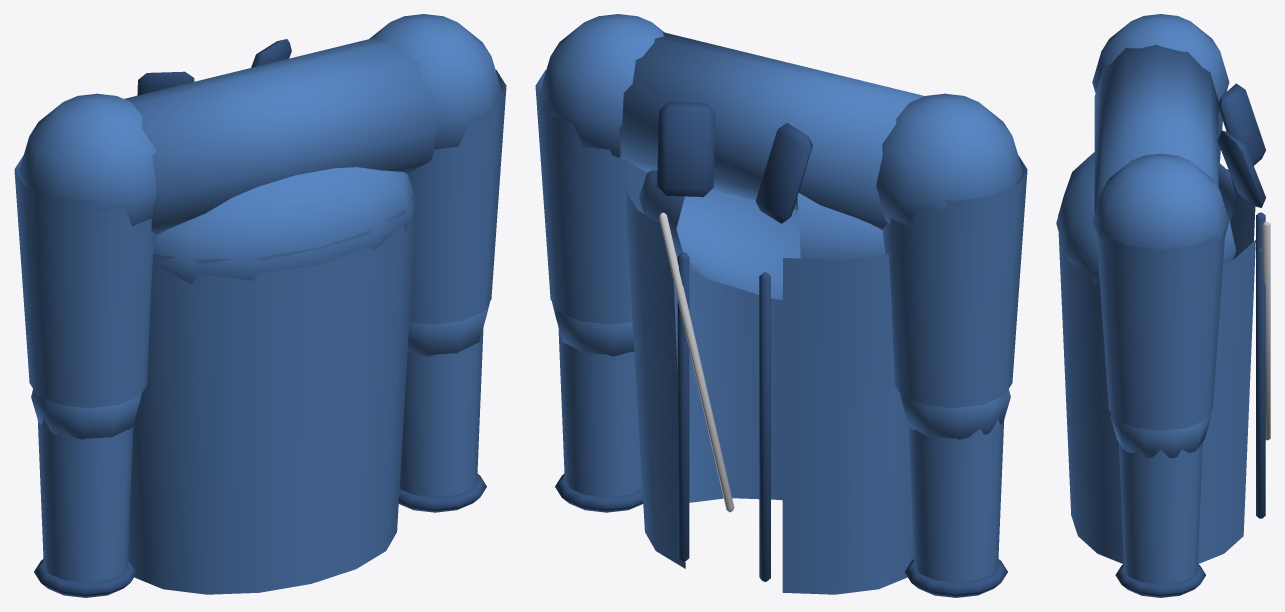
Rendered from top_leather.glb.
The picture shows the model from 3 angles, left to right: view 1: azimuth 30°, elevation 25°; view 2: azimuth 150°, elevation 25°; view 3: azimuth 270°, elevation 25°; orthographic projection. The views are drawn at different scales.
Visible parts, largest first — view 1: Body, ArmL, ArmR, ForeArmL, ForeArmR; view 2: Body, ArmL, ArmR, ForeArmL, ForeArmR; view 3: Body, ArmR, ForeArmR, ArmL.
Boxes of the visible parts, <box> form: Body: <box>124,37,436,594</box>; ArmL: <box>14,93,156,439</box>; ArmR: <box>369,14,506,356</box>; ForeArmL: <box>34,419,137,597</box>; ForeArmR: <box>398,327,486,512</box>; Body: <box>619,32,924,594</box>; ArmL: <box>876,93,1027,439</box>; ArmR: <box>535,14,663,356</box>; ForeArmL: <box>904,419,1007,597</box>; ForeArmR: <box>555,327,643,512</box>; Body: <box>1056,44,1270,563</box>; ArmR: <box>1092,153,1229,458</box>; ForeArmR: <box>1115,443,1205,597</box>; ArmL: <box>1092,14,1229,162</box>.
Size of the model in its own units: 0.578 by 0.568 by 0.2596.
